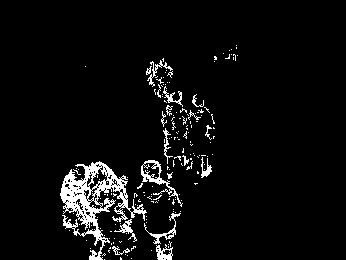person: (133, 159, 183, 260), (89, 161, 132, 256), (61, 163, 99, 259), (163, 92, 191, 174), (188, 94, 215, 178), (146, 59, 174, 95)
